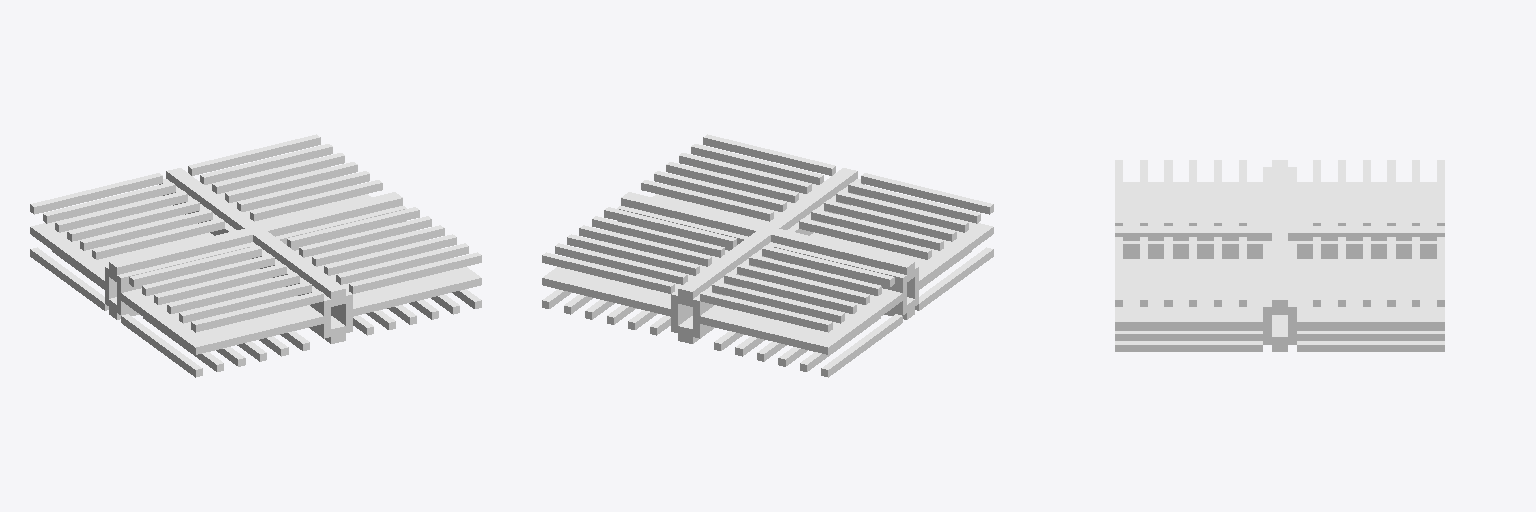
File: openfloor.obj
3 renders of one model, left to right at view 1: azimuth 30°, elevation 25°; view 2: azimuth 150°, elevation 25°; view 3: azimuth 270°, elevation 25°, orthographic.
Visible parts, largest first — view 1: object 1; view 2: object 1; view 3: object 1.
Boxes of the visible parts, x1,y1,x2,y2 form: object 1: [30, 134, 481, 377]; object 1: [542, 134, 993, 377]; object 1: [1115, 160, 1444, 351].
Size of the model in its own units: 4 by 0.7 by 4.